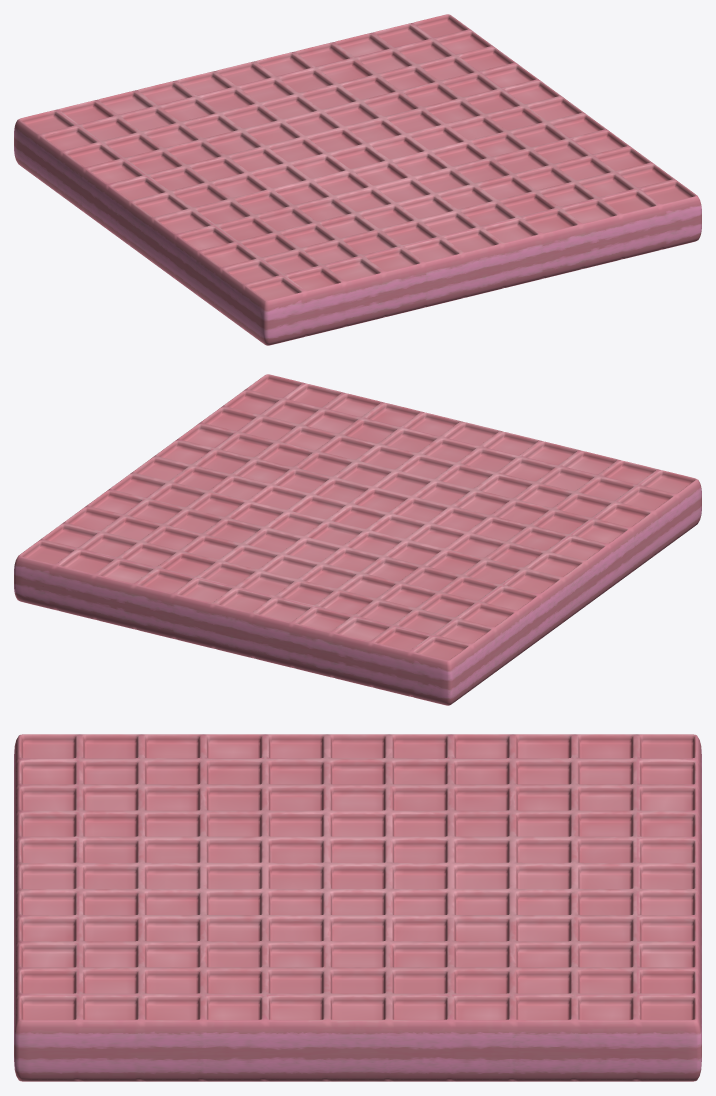
File: StrawbyWafer.fbx
3 renders of one model, top to bottom at view 1: azimuth 30°, elevation 25°; view 2: azimuth 150°, elevation 25°; view 3: azimuth 270°, elevation 25°, orthographic. The views are drawn at different scales.
Visible parts, largest first — view 1: Cube; view 2: Cube; view 3: Cube.
Boxes of the visible parts, x1=… form: Cube: x1=14, y1=14, x2=701, y2=345; Cube: x1=14, y1=374, x2=701, y2=705; Cube: x1=14, y1=734, x2=701, y2=1081.
Size of the model in its own units: 754 by 75.81 by 754.
Materials: 1 (1 with a texture image).
